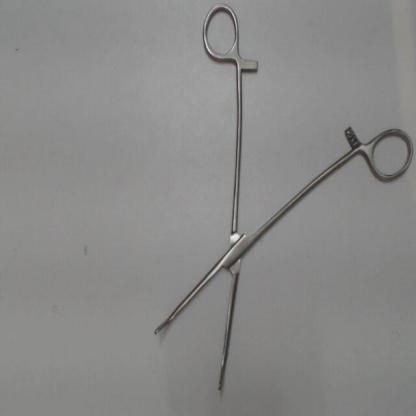Lahey Forceps: (148, 0, 414, 395)
